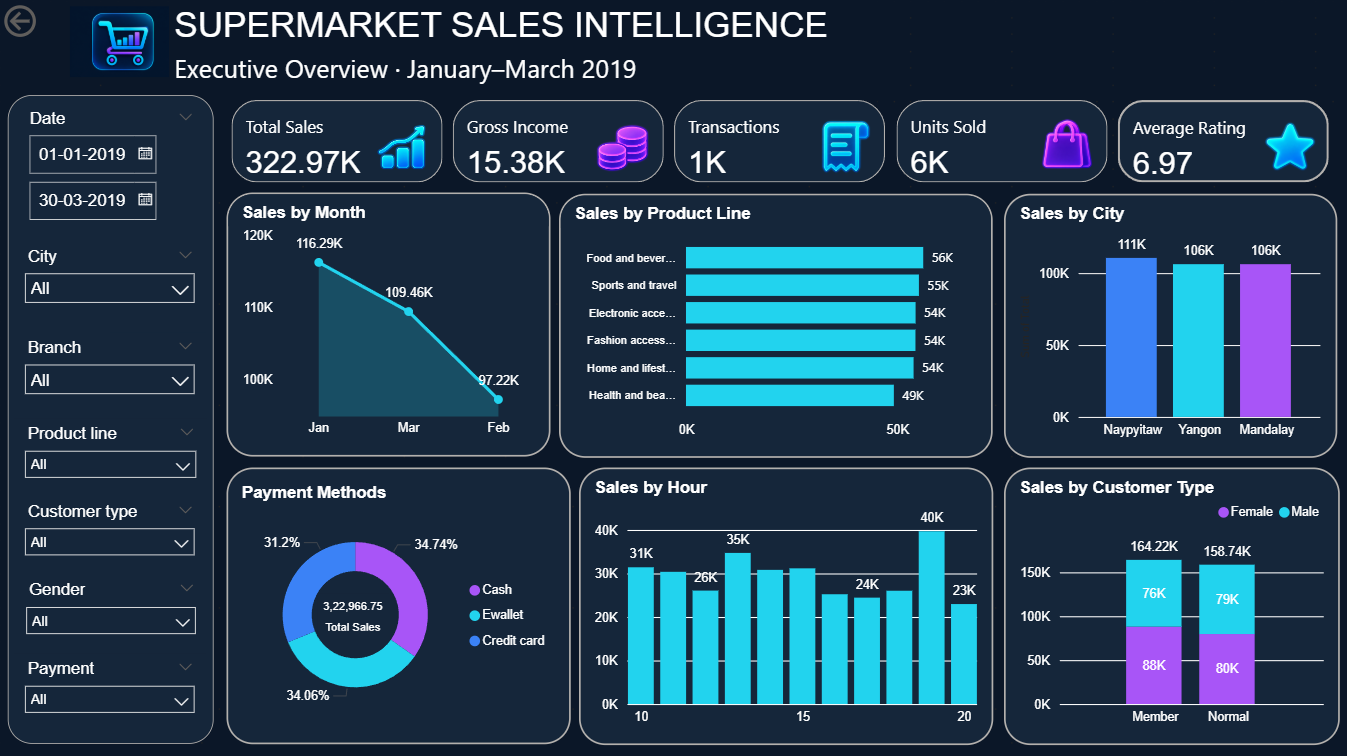

The page's visual inventory and layout, read from the dashboard file:
{"tool":"powerbi","page":{"name":"Page 1","canvas":[1280,720],"ordinal":0},"visuals":[{"type":"donutChart","fields":{"Category":["supermarket_sales_cleaned.Payment"],"Y":["Sum(supermarket_sales_cleaned.Total)"]},"box":[215.5,442.7,326.4,262.7],"z":0},{"type":"image","box":[61.4,1.4,111.4,77.1],"z":1000},{"type":"textbox","box":[161.4,0,671.4,121.4],"z":2000},{"type":"cardVisual","fields":{"Data":["supermarket_sales_cleaned.Total Sales"]},"box":[215.7,90,210,88.6],"z":3000},{"type":"cardVisual","fields":{"Data":["Sum(supermarket_sales_cleaned.gross income)"]},"box":[425.7,90,210,88],"z":4000},{"type":"cardVisual","fields":{"Data":["Sum(supermarket_sales_cleaned.Transaction Count)"]},"box":[635.7,90,210,88],"z":5000},{"type":"cardVisual","fields":{"Data":["Sum(supermarket_sales_cleaned.Quantity)"]},"box":[845.7,90,210,88],"z":6000},{"type":"cardVisual","fields":{"Data":["supermarket_sales_cleaned.Average Rating Display"]},"box":[1055.7,90,210,88.6],"z":7000},{"type":"lineChart","title":"Sales by Month ","fields":{"Category":["supermarket_sales_cleaned.Month"],"Y":["Sum(supermarket_sales_cleaned.Total)"]},"box":[215.8,182.5,307.5,250],"z":8000},{"type":"barChart","title":"Sales by Product Line","fields":{"Category":["supermarket_sales_cleaned.Product line"],"Y":["Sum(supermarket_sales_cleaned.Total)"]},"box":[531.4,184.3,411.4,250],"z":9000},{"type":"columnChart","title":"Sales by City","fields":{"Category":["supermarket_sales_cleaned.City"],"Y":["Sum(supermarket_sales_cleaned.Total)"]},"box":[952.9,184.3,315.7,250],"z":10000},{"type":"columnChart","title":"Sales by Hour","fields":{"Category":["supermarket_sales_cleaned.Hour"],"Y":["Sum(supermarket_sales_cleaned.Total)"]},"box":[550,442.9,392.9,262.9],"z":11000},{"type":"columnChart","title":"Sales by Customer Type","fields":{"Category":["supermarket_sales_cleaned.Customer type"],"Y":["Sum(supermarket_sales_cleaned.Total)"],"Series":["supermarket_sales_cleaned.Gender"]},"box":[952.9,442.9,318.6,262.9],"z":12000},{"type":"slicer","fields":{"Values":["supermarket_sales_cleaned.Date"]},"box":[8.2,90,195.5,615.5],"z":13000},{"type":"actionButton","box":[0,0,100,40],"z":14000},{"type":"slicer","fields":{"Values":["supermarket_sales_cleaned.City"]},"box":[14.3,228.6,181.4,80],"z":15000},{"type":"slicer","fields":{"Values":["supermarket_sales_cleaned.Branch"]},"box":[14.3,315.7,181.4,81.4],"z":16000},{"type":"slicer","fields":{"Values":["supermarket_sales_cleaned.Product line"]},"box":[14.3,397.1,182.9,72.9],"z":17000},{"type":"slicer","fields":{"Values":["supermarket_sales_cleaned.Customer type"]},"box":[14.3,470,181.4,75.7],"z":18000},{"type":"slicer","fields":{"Values":["supermarket_sales_cleaned.Gender"]},"box":[15.7,545.7,181.4,74.3],"z":19000},{"type":"slicer","fields":{"Values":["supermarket_sales_cleaned.Payment"]},"box":[14.3,620,181.4,67.1],"z":20000},{"type":"card","fields":{"Values":["supermarket_sales_cleaned.Total Sales"]},"box":[302.2,562.8,67.2,40.6],"z":22000}]}

Visuals, with their boxes in screenshot pixels (x1, y1, x2, y2), scaled from the page's 1280x720 canvas onto the 1347x756 screenshot:
donutChart - supermarket_sales_cleaned.Payment x Sum(supermarket_sales_cleaned.Total): locate(227, 465, 570, 741)
image: locate(65, 1, 182, 82)
textbox: locate(170, 0, 876, 127)
cardVisual - supermarket_sales_cleaned.Total Sales: locate(227, 94, 448, 188)
cardVisual - Sum(supermarket_sales_cleaned.gross income): locate(448, 94, 669, 187)
cardVisual - Sum(supermarket_sales_cleaned.Transaction Count): locate(669, 94, 890, 187)
cardVisual - Sum(supermarket_sales_cleaned.Quantity): locate(890, 94, 1111, 187)
cardVisual - supermarket_sales_cleaned.Average Rating Display: locate(1111, 94, 1332, 188)
"Sales by Month " lineChart: locate(227, 192, 551, 454)
"Sales by Product Line" barChart: locate(559, 194, 992, 456)
"Sales by City" columnChart: locate(1003, 194, 1335, 456)
"Sales by Hour" columnChart: locate(579, 465, 992, 741)
"Sales by Customer Type" columnChart: locate(1003, 465, 1338, 741)
slicer - supermarket_sales_cleaned.Date: locate(9, 94, 214, 741)
actionButton: locate(0, 0, 105, 42)
slicer - supermarket_sales_cleaned.City: locate(15, 240, 206, 324)
slicer - supermarket_sales_cleaned.Branch: locate(15, 331, 206, 417)
slicer - supermarket_sales_cleaned.Product line: locate(15, 417, 208, 494)
slicer - supermarket_sales_cleaned.Customer type: locate(15, 494, 206, 573)
slicer - supermarket_sales_cleaned.Gender: locate(17, 573, 207, 651)
slicer - supermarket_sales_cleaned.Payment: locate(15, 651, 206, 721)
card - supermarket_sales_cleaned.Total Sales: locate(318, 591, 389, 634)
